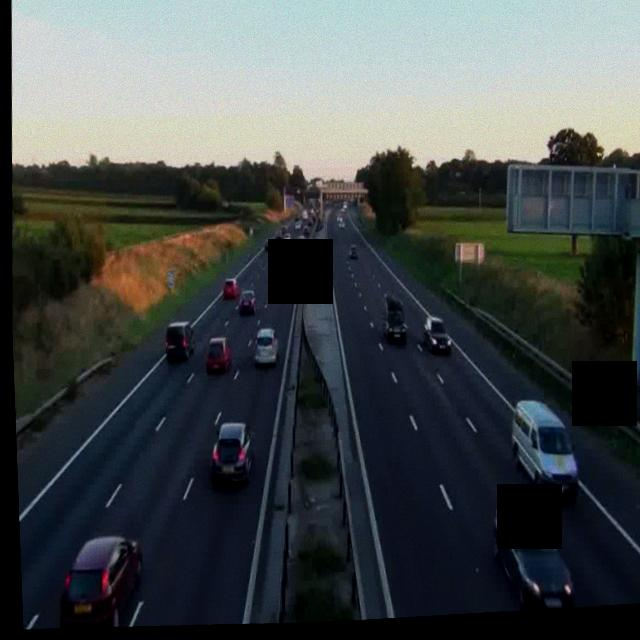car: (488, 490, 577, 612), (56, 531, 143, 631), (507, 395, 581, 503), (209, 421, 253, 486), (163, 319, 196, 361), (382, 292, 408, 345), (421, 314, 452, 353), (205, 335, 233, 373), (252, 326, 278, 365), (237, 290, 257, 314), (221, 277, 239, 301), (282, 256, 295, 273), (348, 244, 359, 259), (271, 246, 282, 259), (292, 245, 302, 259), (263, 236, 272, 249), (299, 230, 307, 242), (337, 217, 344, 227)
